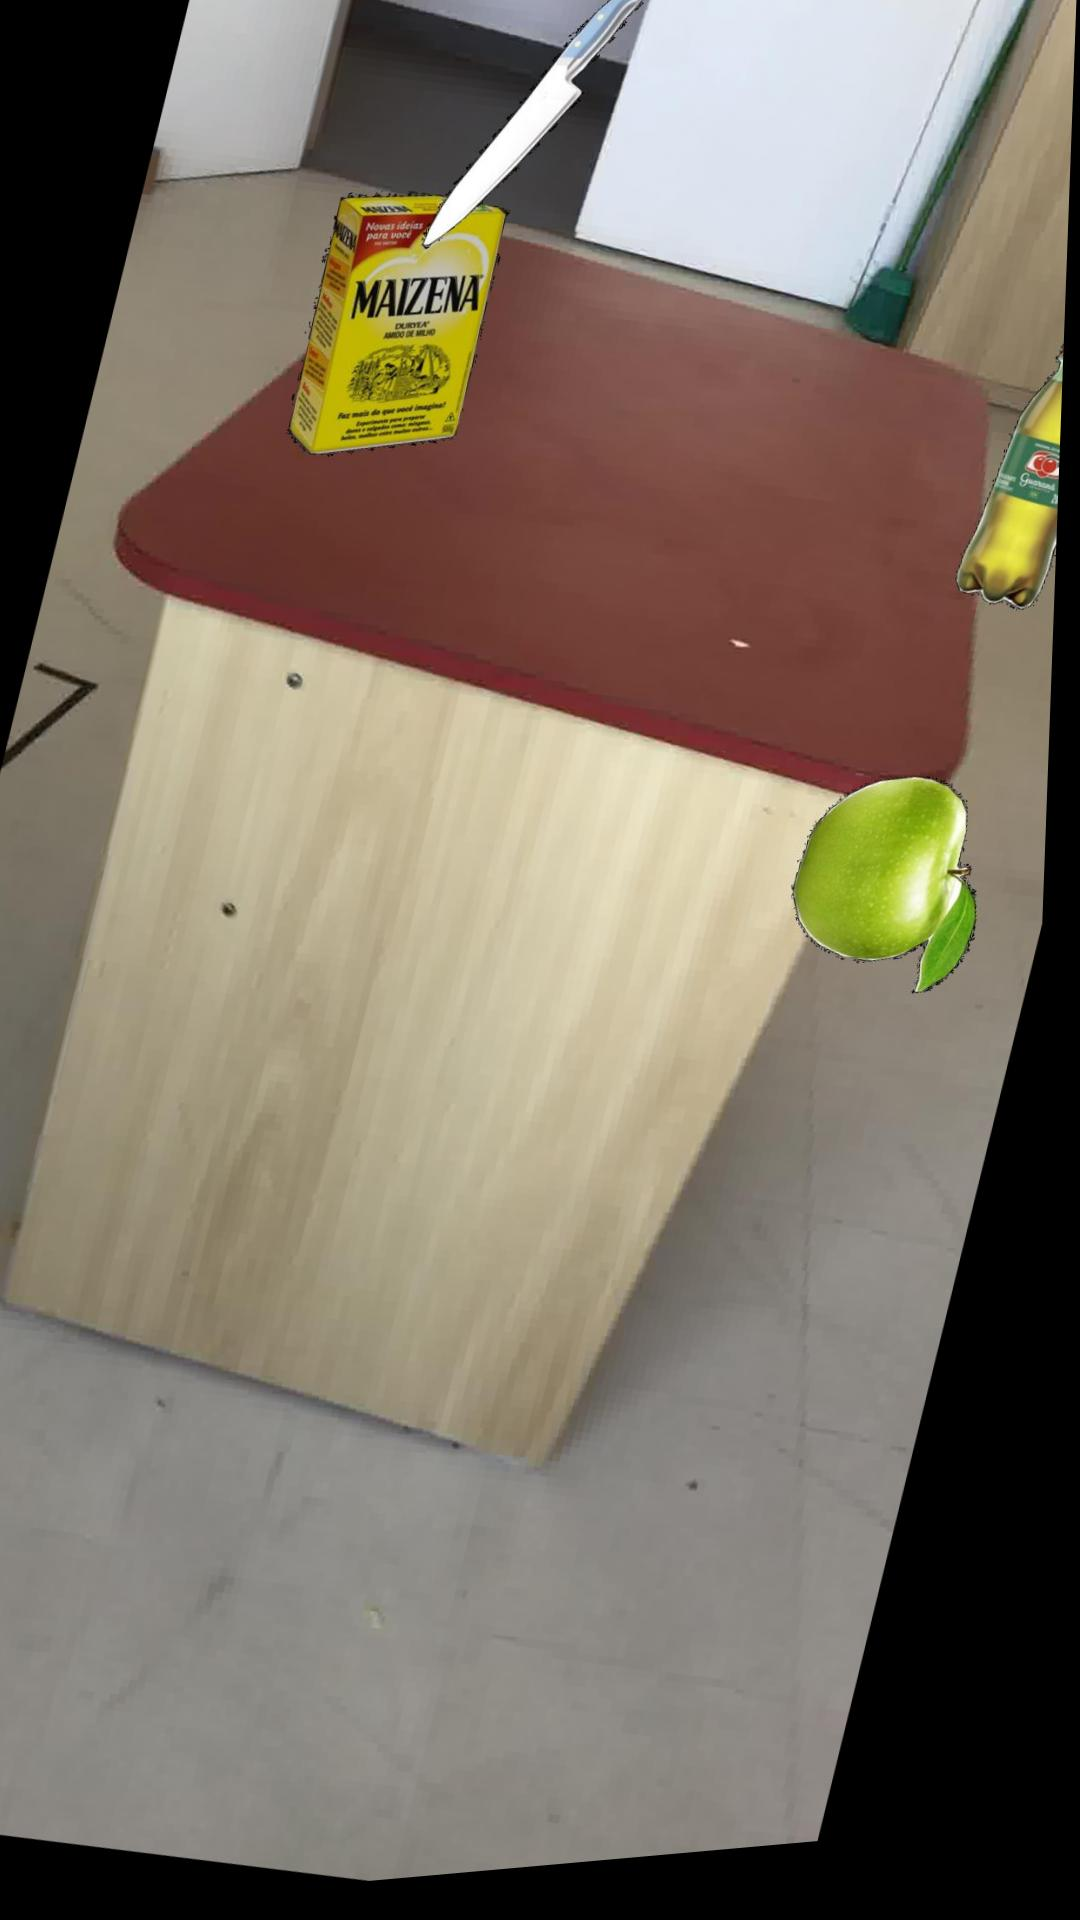green apple: (800, 791, 985, 1009)
guarana: (961, 363, 1067, 628)
knife: (425, 0, 646, 255)
